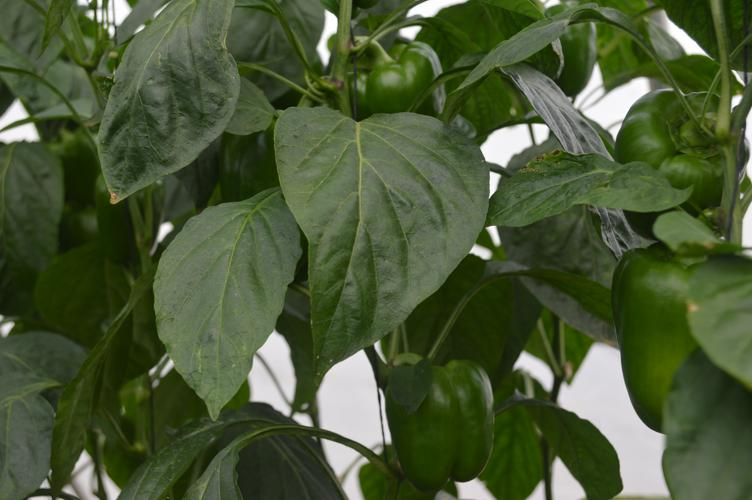BellPepper: (616, 90, 737, 233), (614, 249, 704, 429), (380, 360, 500, 484), (344, 41, 448, 121), (88, 179, 160, 263), (219, 117, 279, 199), (45, 137, 99, 201)
